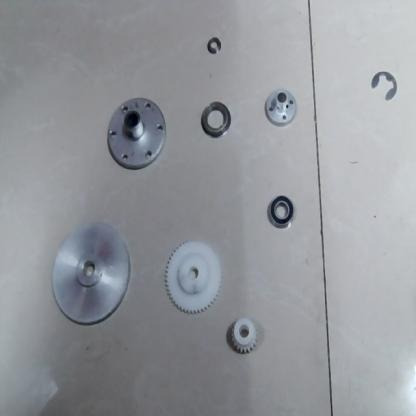FOD: (48, 224, 139, 332), (105, 86, 168, 178), (160, 240, 228, 316), (261, 86, 302, 128), (198, 96, 233, 141), (226, 316, 258, 356), (266, 196, 294, 232), (369, 70, 397, 102), (205, 35, 224, 56)
